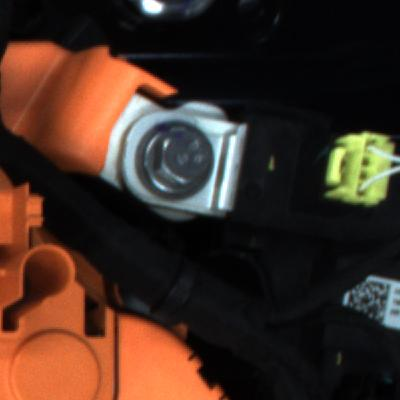nut_b: (130, 116, 219, 204)
